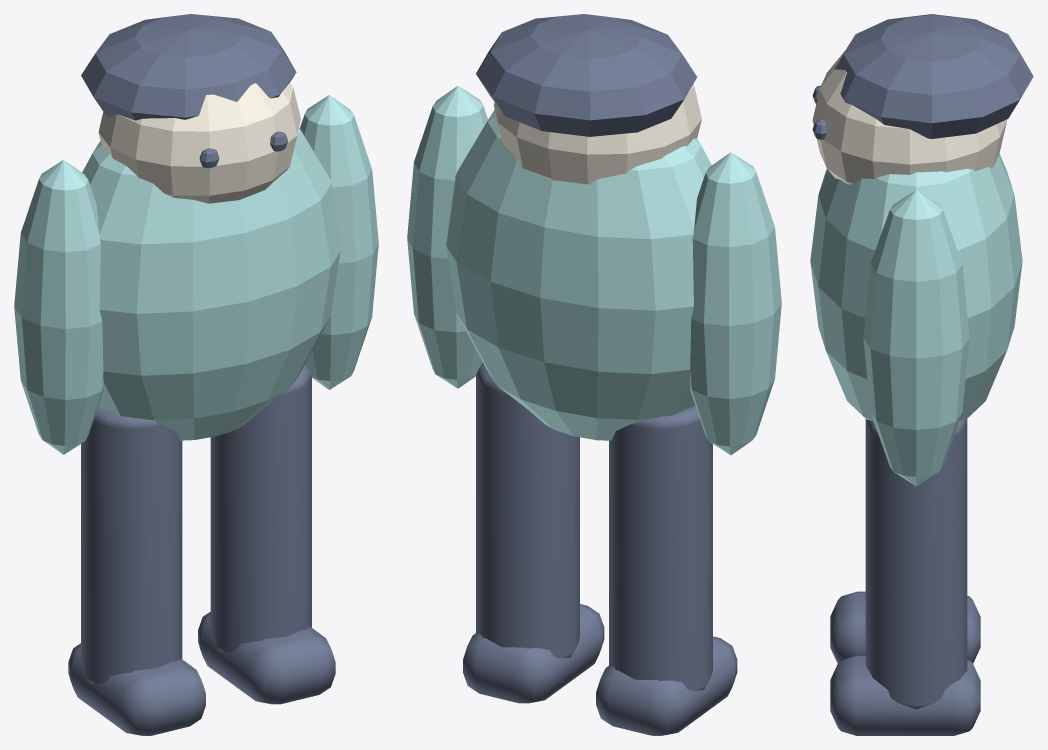
File: Customer.fbx
3 renders of one model, left to right at view 1: azimuth 30°, elevation 25°; view 2: azimuth 150°, elevation 25°; view 3: azimuth 270°, elevation 25°, orthographic. The views are drawn at different scales.
Parts seen in each view (by area): view 1: Torso, LegL, LegR, ArmL, HairCap, Head, ArmR, ShoeR, ShoeL; view 2: Torso, LegL, LegR, ArmL, HairCap, ArmR, Head, ShoeR, ShoeL; view 3: Torso, LegR, ArmR, HairCap, Head, ShoeR, ShoeL.
Boxes of the visible parts, left/top/right/bottom form: Torso: left=82, top=127, right=340, bottom=440; LegL: left=81, top=406, right=182, bottom=683; LegR: left=210, top=364, right=311, bottom=652; ArmL: left=14, top=160, right=103, bottom=454; HairCap: left=81, top=14, right=296, bottom=120; Head: left=98, top=83, right=300, bottom=203; ArmR: left=300, top=95, right=378, bottom=389; ShoeR: left=198, top=612, right=335, bottom=704; ShoeL: left=68, top=643, right=205, bottom=735; Torso: left=446, top=110, right=711, bottom=440; LegL: left=609, top=405, right=712, bottom=690; LegR: left=476, top=362, right=579, bottom=658; ArmL: left=689, top=152, right=781, bottom=455; HairCap: left=476, top=14, right=697, bottom=136; ArmR: left=407, top=86, right=488, bottom=388; Head: left=494, top=84, right=701, bottom=184; ShoeR: left=463, top=604, right=604, bottom=703; ShoeL: left=596, top=636, right=737, bottom=735; Torso: left=810, top=153, right=1022, bottom=420; LegR: left=865, top=419, right=967, bottom=709; ArmR: left=863, top=190, right=969, bottom=486; HairCap: left=835, top=14, right=1033, bottom=138; Head: left=812, top=49, right=1006, bottom=184; ShoeR: left=830, top=655, right=980, bottom=735; ShoeL: left=830, top=591, right=980, bottom=663.
Size of the model in its own units: 91.7 by 165 by 50.5.
